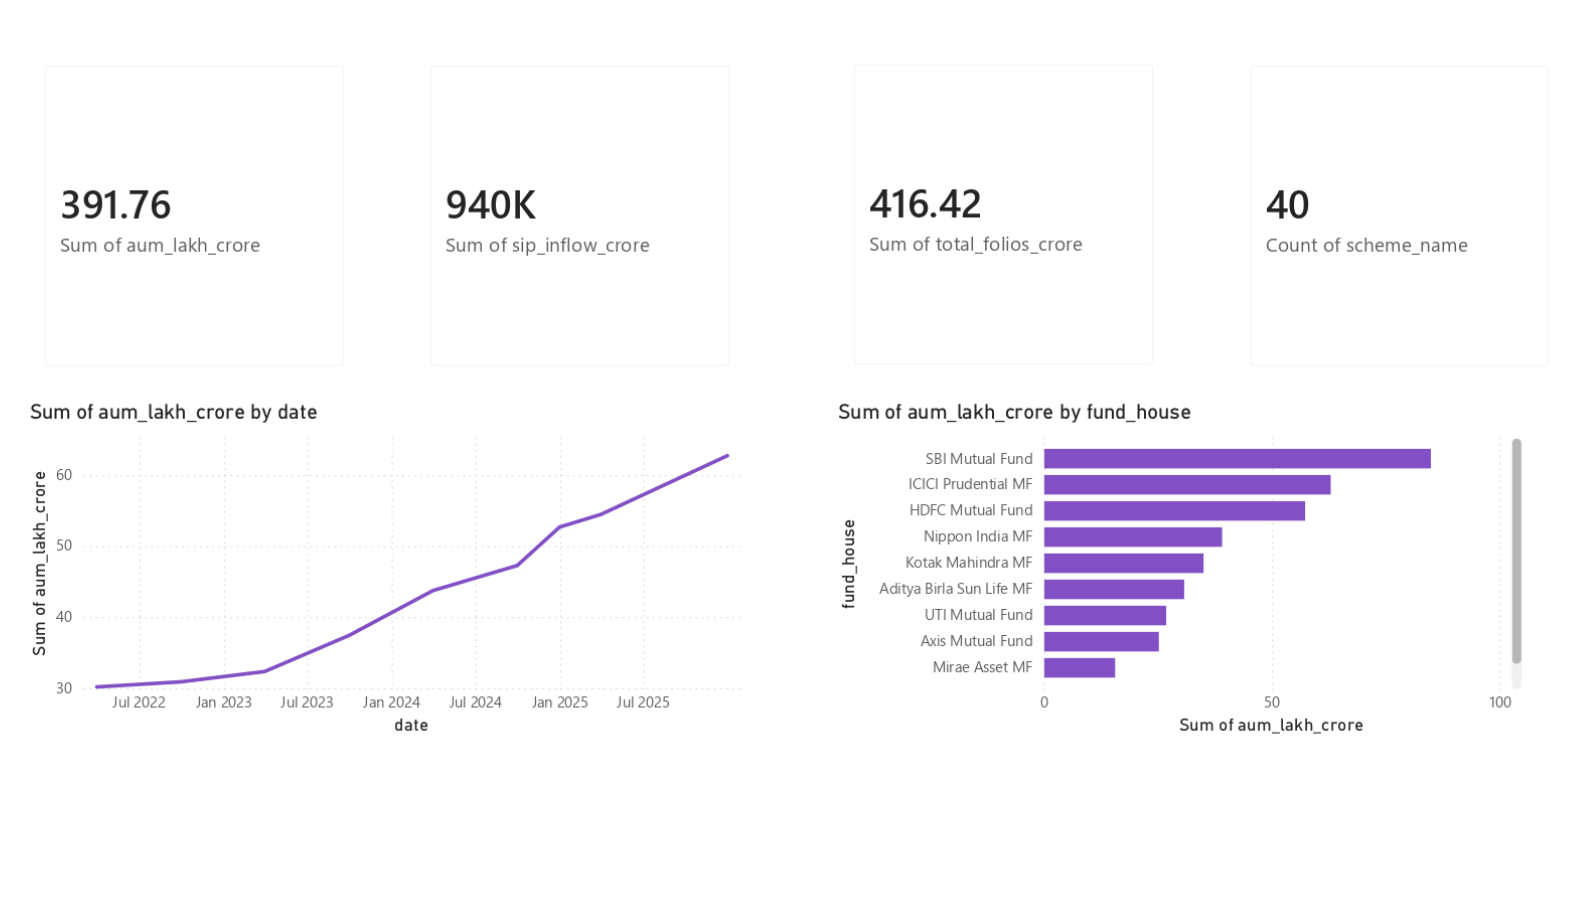

This screenshot's page, from the dashboard's own definition file:
{"tool":"powerbi","page":{"name":"Industry Overview","canvas":[1280,720],"ordinal":0},"visuals":[{"type":"cardVisual","fields":{"Data":["Sum(03_aum_by_fund_house_cleaned.aum_lakh_crore)"]},"box":[0,8.2,278.9,280.1],"z":0},{"type":"cardVisual","fields":{"Data":["Sum(04_monthly_sip_inflows_cleaned.sip_inflow_crore)"]},"box":[315.3,8.2,278.9,280.1],"z":1000},{"type":"cardVisual","fields":{"Data":["Sum(06_industry_folio_count_cleaned.total_folios_crore)"]},"box":[661,7,278.9,280.1],"z":2000},{"type":"cardVisual","fields":{"Data":["Count(01_fund_master_cleaned.scheme_name)"]},"box":[984.5,8.2,278.9,280.1],"z":3000},{"type":"lineChart","fields":{"Y":["Sum(03_aum_by_fund_house_cleaned.aum_lakh_crore)"],"Category":["03_aum_by_fund_house_cleaned.date"]},"box":[0,297.7,602.4,280.1],"z":4000},{"type":"clusteredBarChart","fields":{"Category":["03_aum_by_fund_house_cleaned.fund_house"],"Y":["Sum(03_aum_by_fund_house_cleaned.aum_lakh_crore)"]},"box":[661,297.7,568.4,280.1],"z":5000}]}

Visuals, with their boxes in screenshot pixels (x1, y1, x2, y2), scaled from the page's 1280x720 canvas onto the 1581x915 screenshot:
cardVisual - Sum(03_aum_by_fund_house_cleaned.aum_lakh_crore): bbox(0, 10, 344, 366)
cardVisual - Sum(04_monthly_sip_inflows_cleaned.sip_inflow_crore): bbox(389, 10, 734, 366)
cardVisual - Sum(06_industry_folio_count_cleaned.total_folios_crore): bbox(816, 9, 1161, 365)
cardVisual - Count(01_fund_master_cleaned.scheme_name): bbox(1216, 10, 1560, 366)
lineChart - Sum(03_aum_by_fund_house_cleaned.aum_lakh_crore) x 03_aum_by_fund_house_cleaned.date: bbox(0, 378, 744, 734)
clusteredBarChart - 03_aum_by_fund_house_cleaned.fund_house x Sum(03_aum_by_fund_house_cleaned.aum_lakh_crore): bbox(816, 378, 1519, 734)
